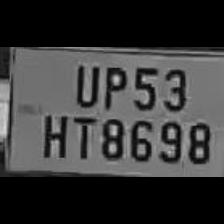3: (160, 63, 188, 111)
5: (128, 62, 158, 110)
6: (126, 117, 152, 163)
8: (96, 113, 124, 161), (183, 118, 212, 164)
9: (154, 116, 182, 164)
H: (37, 110, 67, 160)
P: (98, 60, 128, 110)
T: (68, 111, 96, 160)
U: (68, 58, 100, 106)
